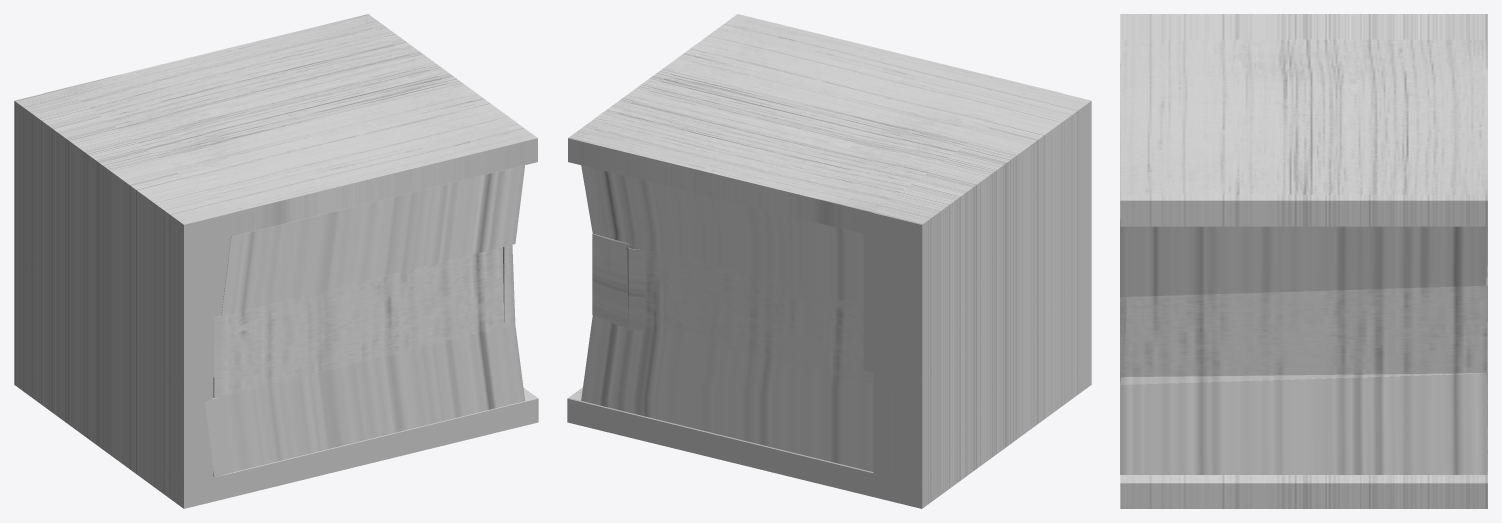
Rendered from boek.obj.
The picture shows the model from 3 angles, left to right: view 1: azimuth 30°, elevation 25°; view 2: azimuth 150°, elevation 25°; view 3: azimuth 270°, elevation 25°; orthographic projection. The views are drawn at different scales.
Visible parts, largest first — view 1: Cube_Cube.001; view 2: Cube_Cube.001; view 3: Cube_Cube.001.
Boxes of the visible parts, x1,y1,x2,y2 form: Cube_Cube.001: [14, 14, 538, 508]; Cube_Cube.001: [567, 14, 1091, 508]; Cube_Cube.001: [1120, 14, 1487, 508].
Bounding box in the file's own units: 2.41 × 1.85 × 2.
